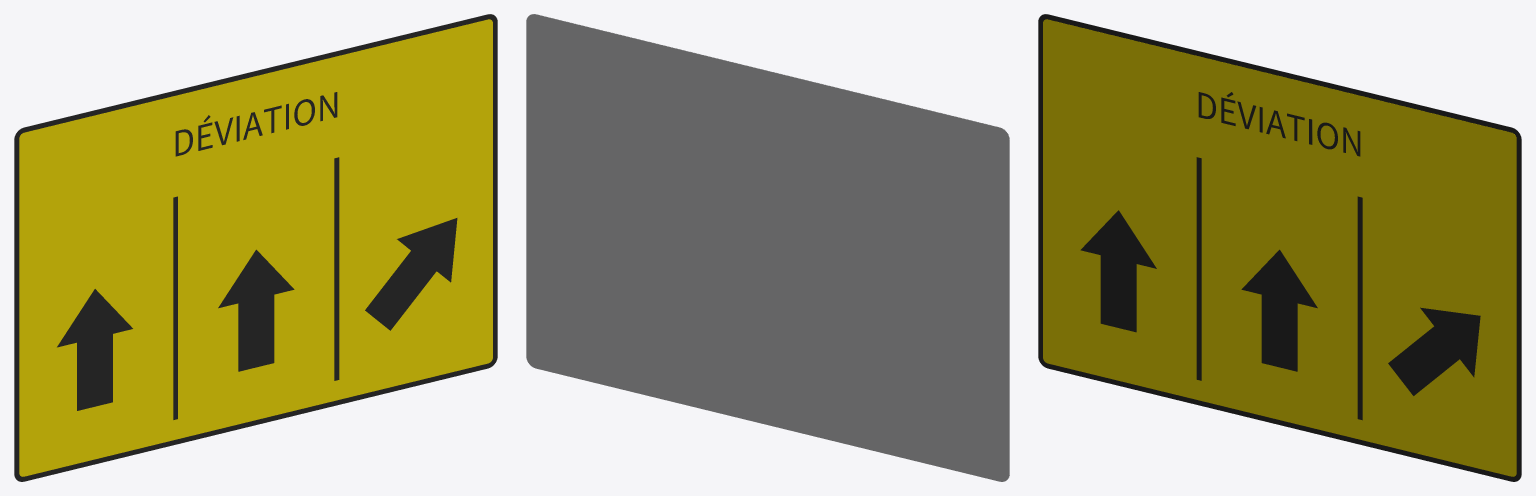
3 views of the same model, side by side, from view 1: azimuth 30°, elevation 25°; view 2: azimuth 150°, elevation 25°; view 3: azimuth 330°, elevation 25° (orthographic).
Parts seen in each view (by area): view 1: KD10b_fond01, KD10b_cadre00, KD10b_v04, KD10b_v06, KD10b_v02, KD10b_txt07, KD10b_sep05, KD10b_sep03; view 2: KD10b_dos; view 3: KD10b_fond01, KD10b_cadre00, KD10b_v02, KD10b_v04, KD10b_v06, KD10b_txt07, KD10b_sep05, KD10b_sep03.
Part boxes in pixels (x1,y1,x2,y2): KD10b_fond01: (19, 19, 492, 476); KD10b_cadre00: (14, 14, 497, 481); KD10b_v04: (218, 249, 294, 371); KD10b_v06: (365, 218, 457, 330); KD10b_v02: (57, 289, 132, 410); KD10b_txt07: (175, 92, 337, 156); KD10b_sep05: (334, 157, 339, 380); KD10b_sep03: (173, 196, 177, 419); KD10b_dos: (526, 14, 1009, 481); KD10b_fond01: (1043, 19, 1516, 476); KD10b_cadre00: (1038, 14, 1521, 481); KD10b_v02: (1080, 210, 1156, 332); KD10b_v04: (1241, 249, 1317, 371); KD10b_v06: (1388, 307, 1480, 395); KD10b_txt07: (1198, 92, 1360, 156); KD10b_sep05: (1357, 196, 1362, 420); KD10b_sep03: (1196, 157, 1201, 380).
Bounding box in the file's own units: 2 × 1.4 × 0.0045.
